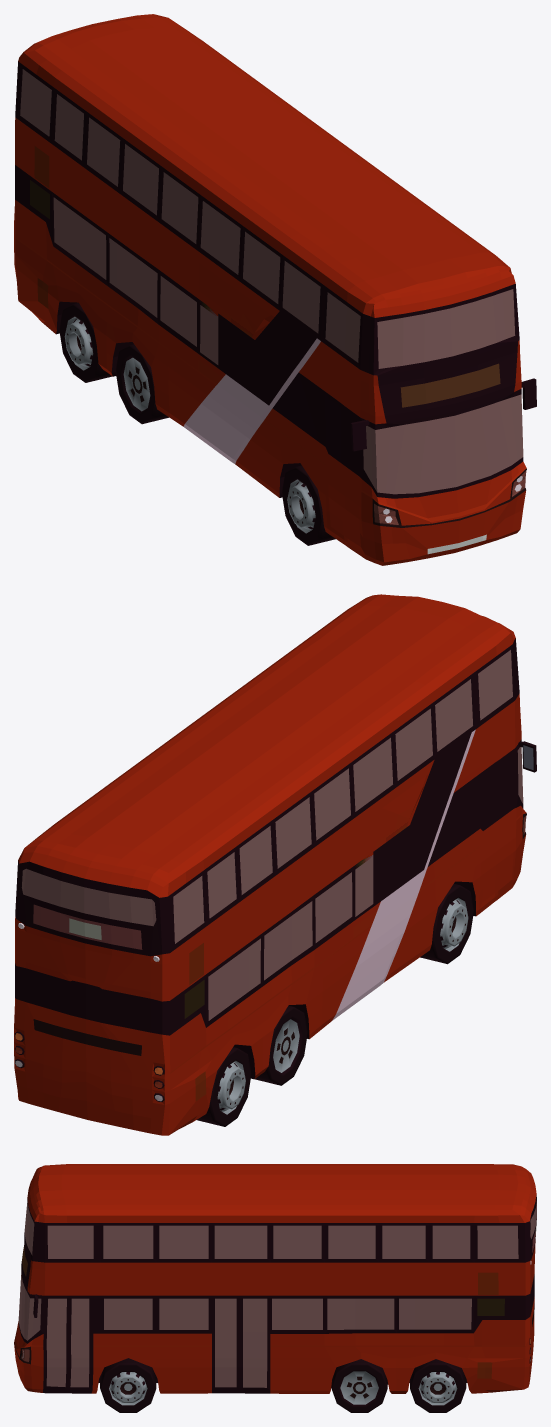
File: bus.glb
3 renders of one model, top to bottom at view 1: azimuth 30°, elevation 25°; view 2: azimuth 150°, elevation 25°; view 3: azimuth 270°, elevation 25°, orthographic. The views are drawn at different scales.
Parts seen in each view (by area): view 1: Object_4; view 2: Object_4; view 3: Object_4.
Boxes of the visible parts, left/top/right/bottom form: Object_4: left=14, top=14, right=536, bottom=565; Object_4: left=14, top=594, right=536, bottom=1135; Object_4: left=14, top=1164, right=536, bottom=1412.
Bounding box in the file's own units: 2.97 × 4.52 × 10.5.
1 material, 1 textured.
